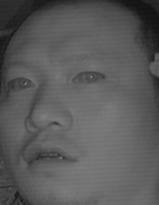eye: (72, 66, 107, 90), (6, 73, 36, 93)
mouth: (20, 135, 85, 177)
